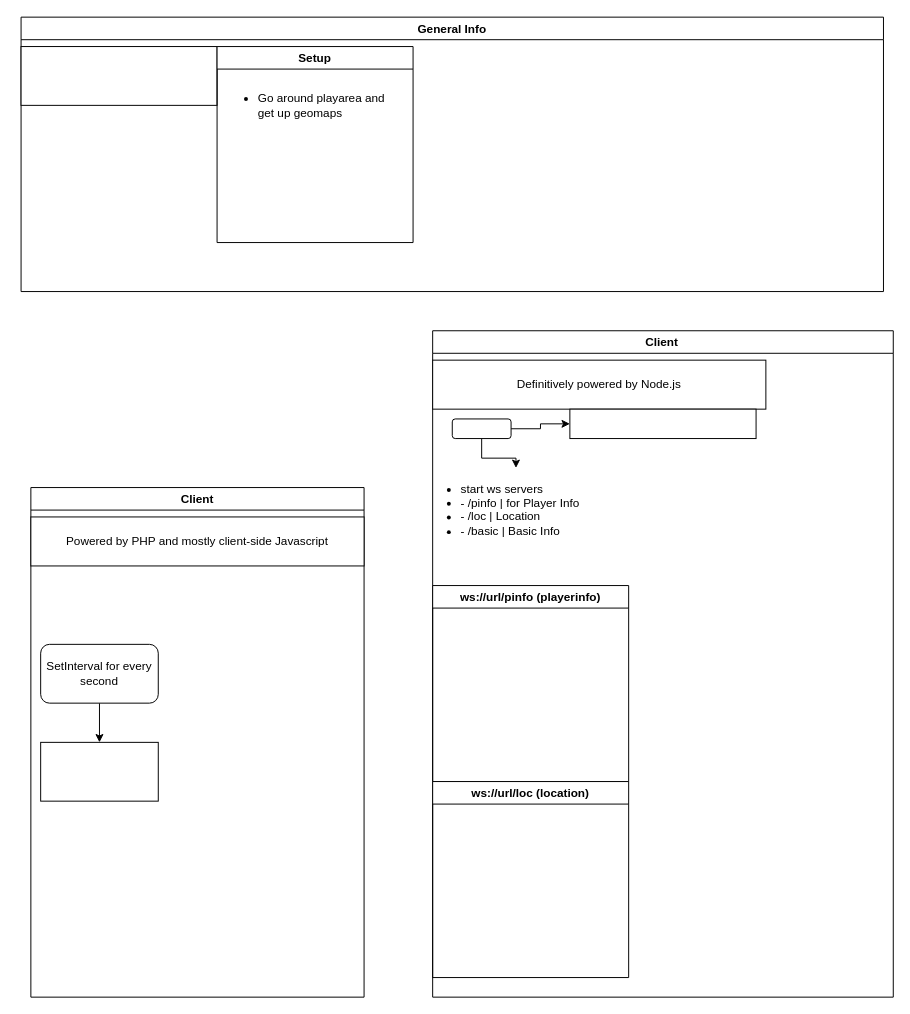
Image size: 910x1014. Some labels were removed from this diagram. Each missing label, with the box of its shape:
Communication: Websockets: (20, 46, 217, 105)
navigator.geolocation.getCurrentPosition: (40, 741, 158, 801)
Officially start the game :): (569, 408, 756, 439)
onStart(): (451, 418, 511, 439)
